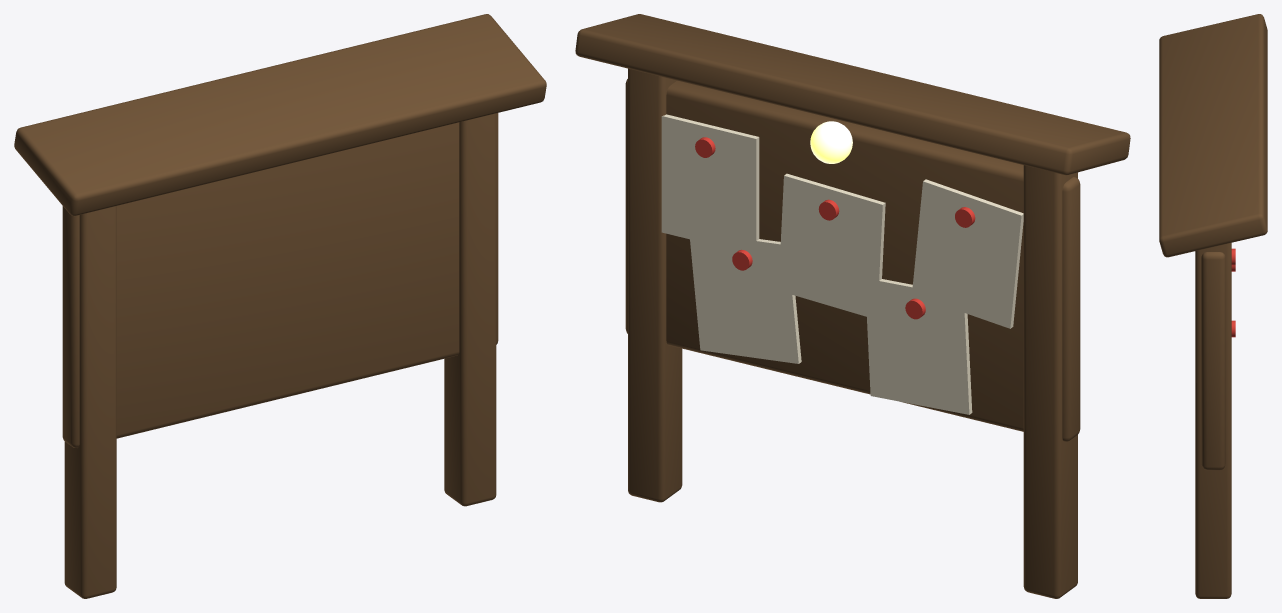
File: town_board.glb
3 renders of one model, left to right at view 1: azimuth 30°, elevation 25°; view 2: azimuth 150°, elevation 25°; view 3: azimuth 270°, elevation 25°, orthographic. The views are drawn at different scales.
Visible parts, largest first — view 1: Panel, Roof, Post-1.6, Post1.6; view 2: Panel, Roof, Post-1.6, Post1.6, Note0, Note1, Note4, Note3, Note2, Lamp; view 3: Roof, Post1.6, Panel.
Part boxes in pixels (<box>): Panel: <box>62,113,498,447</box>; Roof: <box>14,14,546,216</box>; Post-1.6: <box>64,206,116,598</box>; Post1.6: <box>444,113,496,506</box>; Panel: <box>625,79,1080,441</box>; Roof: <box>575,14,1130,175</box>; Post-1.6: <box>1023,165,1077,598</box>; Post1.6: <box>628,68,682,502</box>; Note0: <box>912,179,1023,328</box>; Note1: <box>778,173,885,319</box>; Note4: <box>689,231,801,363</box>; Note3: <box>867,279,972,414</box>; Note2: <box>661,114,759,244</box>; Lamp: <box>810,121,852,163</box>; Roof: <box>1159,14,1267,257</box>; Post1.6: <box>1195,243,1231,598</box>; Panel: <box>1201,252,1225,470</box>.
Size of the model in its own units: 4 by 3.65 by 0.9017.
